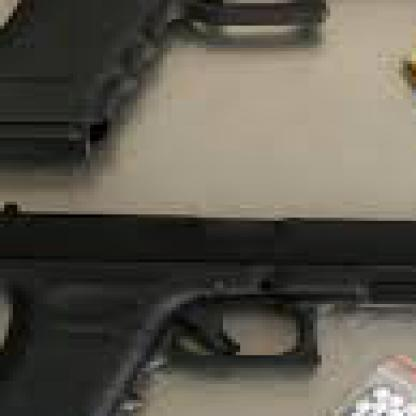gun: (193, 0, 412, 141)
